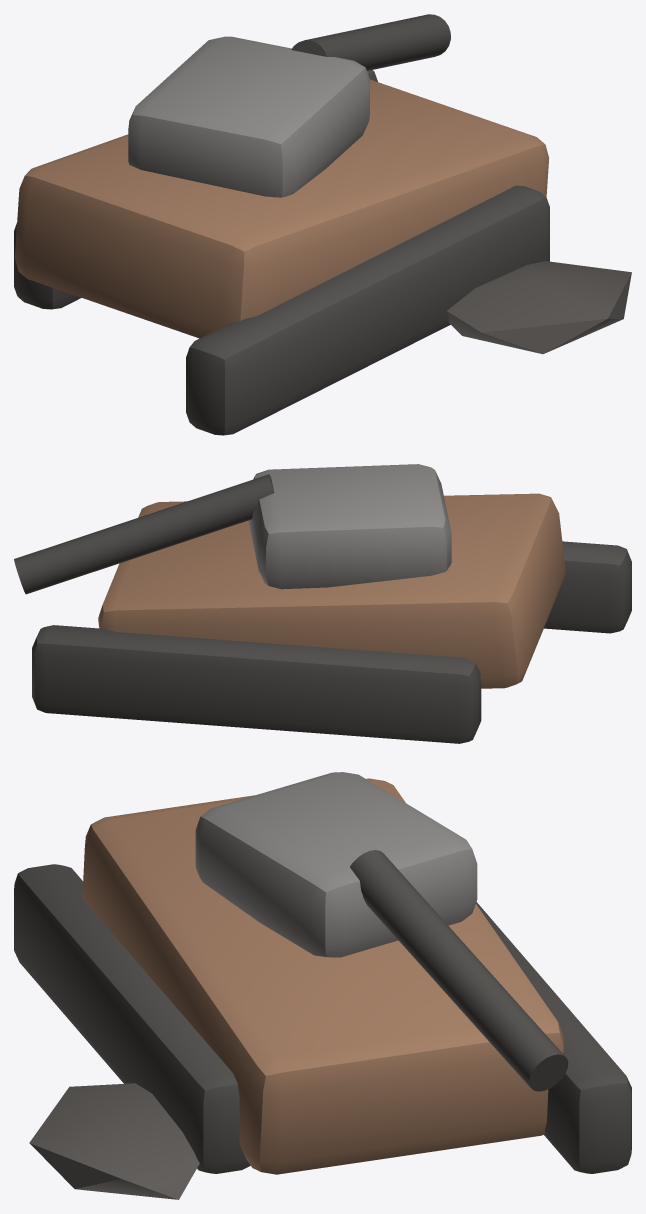
Rendered from prop_wreck.glb.
The picture shows the model from 3 angles, top to bottom: view 1: azimuth 30°, elevation 25°; view 2: azimuth 150°, elevation 25°; view 3: azimuth 270°, elevation 25°; orthographic projection. The views are drawn at different scales.
Parts seen in each view (by area): view 1: prop_wreck; view 2: prop_wreck; view 3: prop_wreck.
Part boxes in pixels (bbox=[...]): prop_wreck: bbox=[14, 14, 631, 435]; prop_wreck: bbox=[14, 464, 631, 743]; prop_wreck: bbox=[14, 772, 631, 1199].
Bounding box in the file's own units: 0.9481 × 0.4383 × 0.9207.
